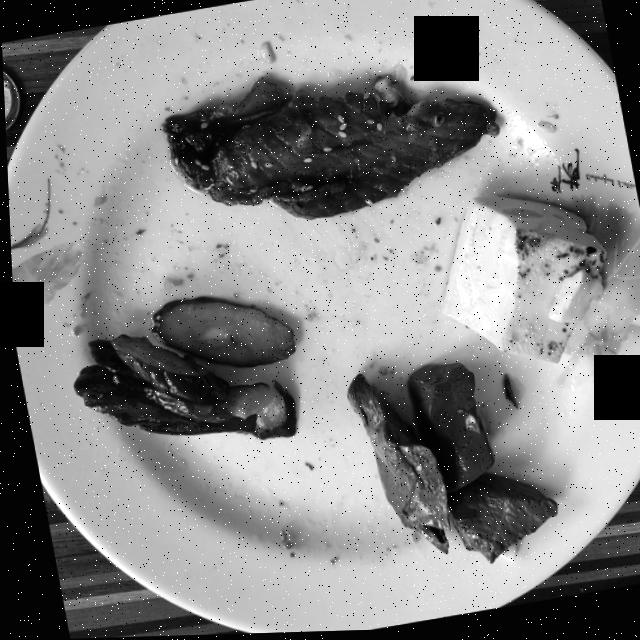Kabayaki sea bream fillet: (161, 78, 498, 220)
coin: (2, 70, 20, 130)
cucumber: (71, 334, 292, 440), (149, 297, 292, 368)
pig blood curd: (344, 365, 552, 564)
